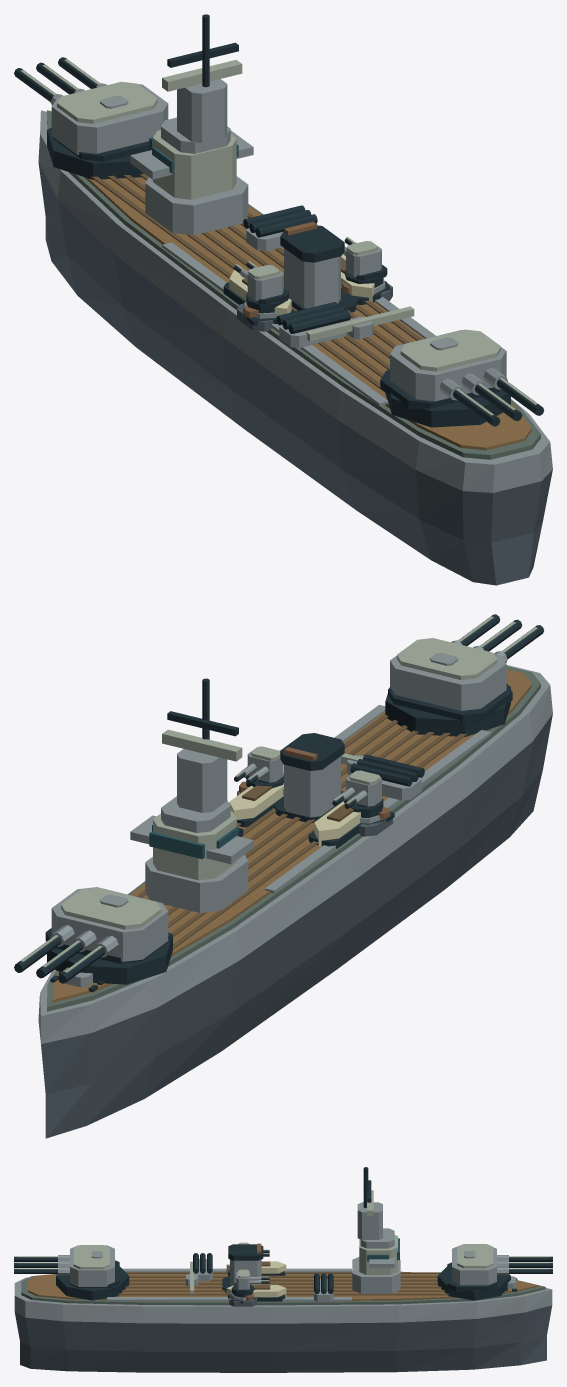
File: historic-graf-spee.glb
3 views of the same model, one above another, from view 1: azimuth 30°, elevation 25°; view 2: azimuth 150°, elevation 25°; view 3: azimuth 270°, elevation 25° (orthographic). The views are drawn at different scales.
Visible parts, largest first — view 1: historic-graf-spee-historic-graf-spee-geometry, historic-graf-spee-part_bridge.034-geometry, historic-graf-spee-turret_main_1.023-geometry, historic-graf-spee-turret_main_0.024-geometry, historic-graf-spee-historic_funnel_0.035-geometry, historic-graf-spee-torpedo_bank_0.005-geometry, historic-graf-spee-torpedo_bank_1.004-geometry, historic-graf-spee-turret_aa_aa-port.036-geometry, historic-graf-spee-turret_aa_aa-starboard.034-geometry, historic-graf-spee-historic_catapult_0.008-geometry; view 2: historic-graf-spee-historic-graf-spee-geometry, historic-graf-spee-part_bridge.034-geometry, historic-graf-spee-turret_main_1.023-geometry, historic-graf-spee-turret_main_0.024-geometry, historic-graf-spee-historic_funnel_0.035-geometry, historic-graf-spee-torpedo_bank_0.005-geometry, historic-graf-spee-turret_aa_aa-port.036-geometry, historic-graf-spee-turret_aa_aa-starboard.034-geometry; view 3: historic-graf-spee-historic-graf-spee-geometry, historic-graf-spee-turret_main_0.024-geometry, historic-graf-spee-turret_main_1.023-geometry, historic-graf-spee-part_bridge.034-geometry, historic-graf-spee-historic_funnel_0.035-geometry, historic-graf-spee-turret_aa_aa-starboard.034-geometry, historic-graf-spee-torpedo_bank_1.004-geometry, historic-graf-spee-torpedo_bank_0.005-geometry.
Boxes of the visible parts, x1,y1,x2,y2 form: historic-graf-spee-historic-graf-spee-geometry: (38,110,552,585); historic-graf-spee-part_bridge.034-geometry: (130,14,253,235); historic-graf-spee-turret_main_1.023-geometry: (380,329,544,427); historic-graf-spee-turret_main_0.024-geometry: (14,57,168,179); historic-graf-spee-historic_funnel_0.035-geometry: (280,221,358,312); historic-graf-spee-torpedo_bank_0.005-geometry: (276,302,350,347); historic-graf-spee-torpedo_bank_1.004-geometry: (243,205,317,250); historic-graf-spee-turret_aa_aa-port.036-geometry: (234,261,288,313); historic-graf-spee-turret_aa_aa-starboard.034-geometry: (343,237,387,287); historic-graf-spee-historic_catapult_0.008-geometry: (306,306,414,341); historic-graf-spee-historic-graf-spee-geometry: (38,665,552,1138); historic-graf-spee-part_bridge.034-geometry: (130,678,253,912); historic-graf-spee-turret_main_1.023-geometry: (385,614,544,736); historic-graf-spee-turret_main_0.024-geometry: (14,887,172,984); historic-graf-spee-historic_funnel_0.035-geometry: (274,733,344,822); historic-graf-spee-torpedo_bank_0.005-geometry: (350,754,424,800); historic-graf-spee-turret_aa_aa-port.036-geometry: (332,770,383,817); historic-graf-spee-turret_aa_aa-starboard.034-geometry: (234,746,283,788); historic-graf-spee-historic-graf-spee-geometry: (14,1261,552,1372); historic-graf-spee-turret_main_0.024-geometry: (437,1244,552,1300); historic-graf-spee-turret_main_1.023-geometry: (14,1245,129,1300); historic-graf-spee-part_bridge.034-geometry: (352,1167,400,1293); historic-graf-spee-historic_funnel_0.035-geometry: (222,1243,263,1292); historic-graf-spee-turret_aa_aa-starboard.034-geometry: (231,1269,269,1297); historic-graf-spee-torpedo_bank_1.004-geometry: (314,1273,333,1301); historic-graf-spee-torpedo_bank_0.005-geometry: (193,1253,212,1281).
Bounding box in the file's own units: 0.7453 × 1.71 × 4.33.
